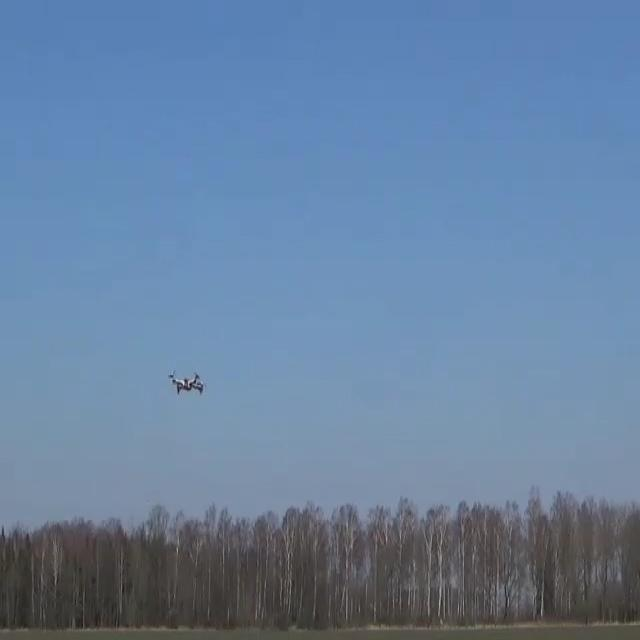drone: (167, 370, 203, 394)
